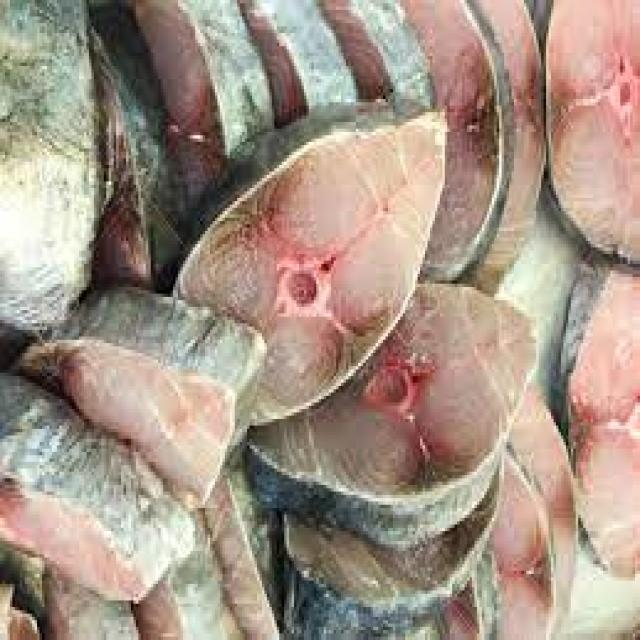Mackerel: (175, 108, 445, 423), (250, 284, 536, 547), (404, 0, 545, 293)
